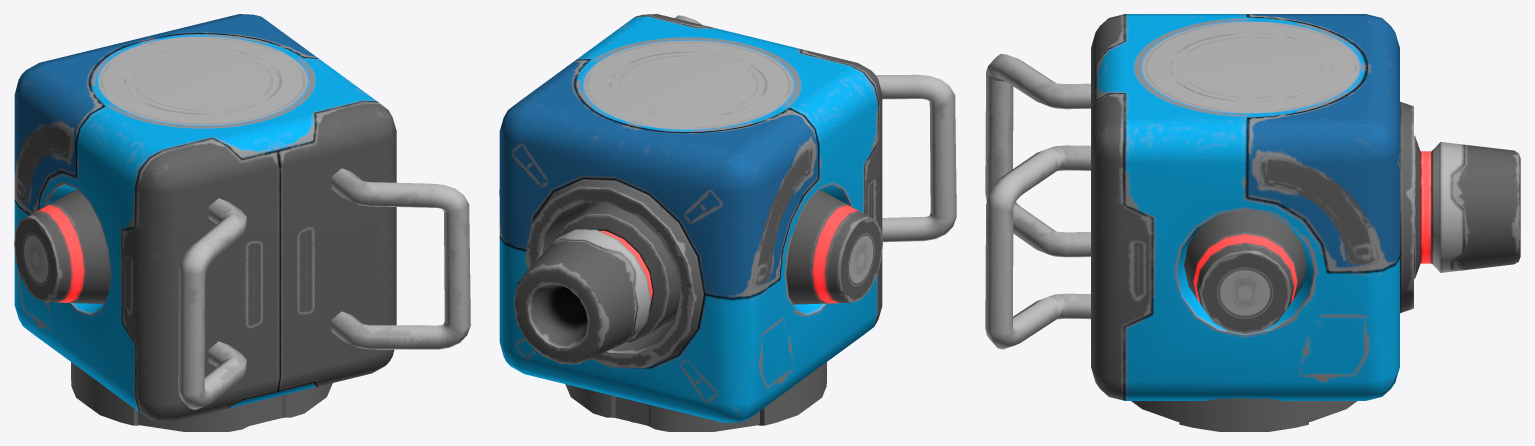
File: IG_Helmat_Battery2.fbx
3 renders of one model, left to right at view 1: azimuth 30°, elevation 25°; view 2: azimuth 150°, elevation 25°; view 3: azimuth 270°, elevation 25°, orthographic. The views are drawn at different scales.
Visible parts, largest first — view 1: Model, IG_Helmat_Battery2; view 2: Model, IG_Helmat_Battery2; view 3: Model, IG_Helmat_Battery2.
Boxes of the visible parts, left/top/right/bottom form: Model: left=14, top=14, right=470, bottom=422; IG_Helmat_Battery2: left=71, top=362, right=332, bottom=431; Model: left=499, top=14, right=956, bottom=422; IG_Helmat_Battery2: left=565, top=362, right=826, bottom=431; Model: left=985, top=14, right=1520, bottom=400; IG_Helmat_Battery2: left=1131, top=398, right=1356, bottom=431.
Bounding box in the file's own units: 0.8935 × 0.7596 × 1.18.
